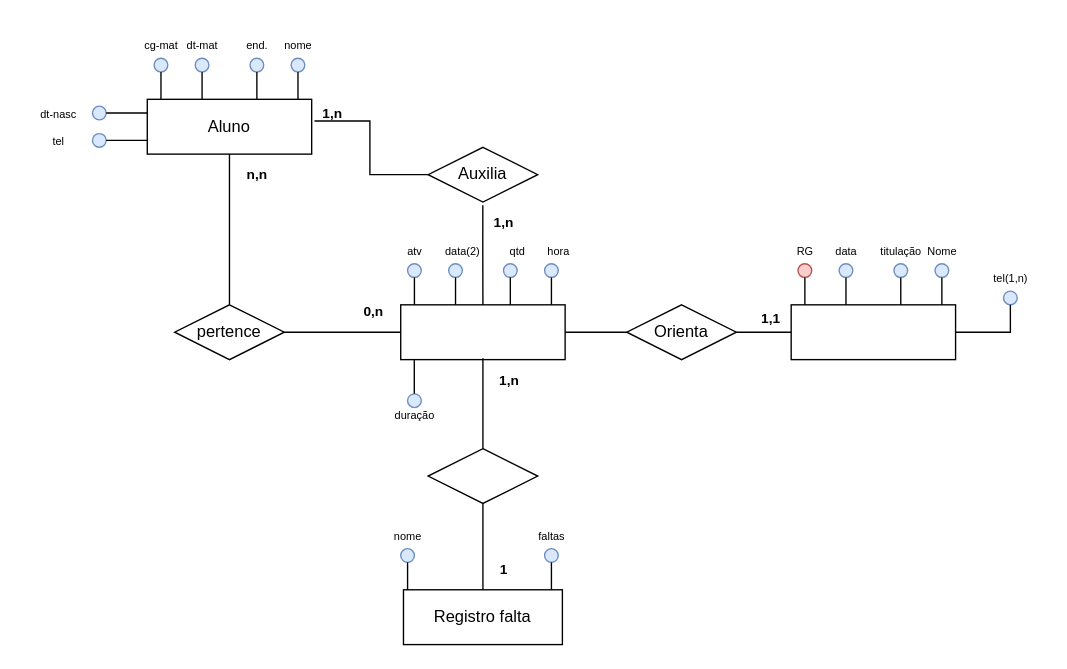
Image size: 1067x669. Some labels were removed from this diagram. Each missing label, with the box of its shape:
contem: (427, 447, 538, 503)
Instrutor: (790, 303, 956, 360)
Turma: (399, 303, 565, 360)
